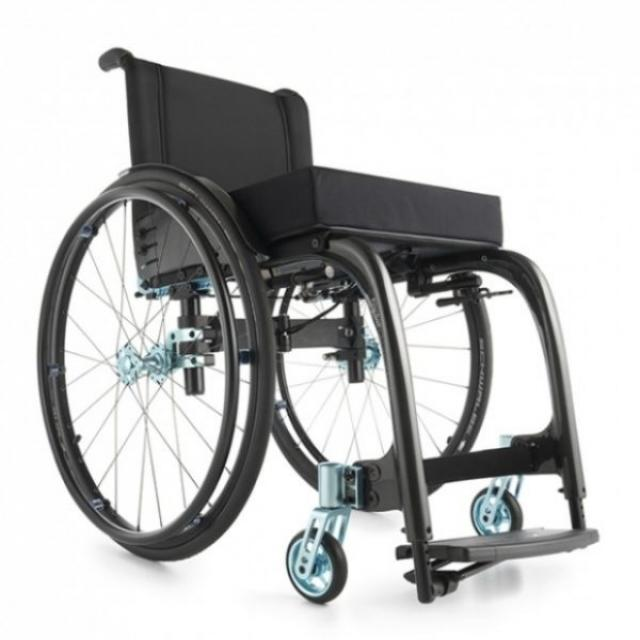wheelchair: (18, 35, 614, 620)
